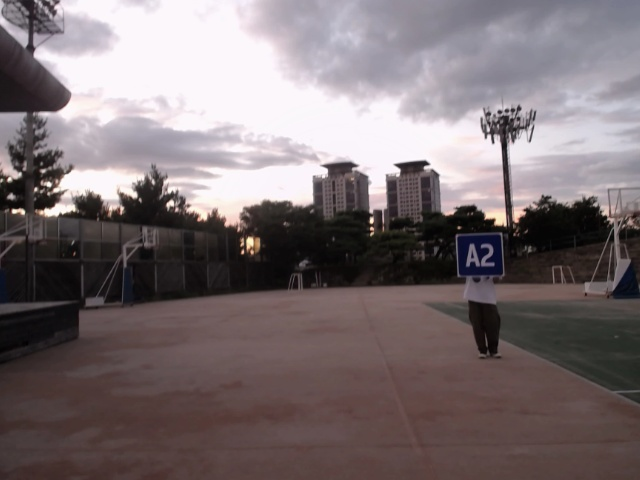delivery_a2: (456, 233, 504, 276)
